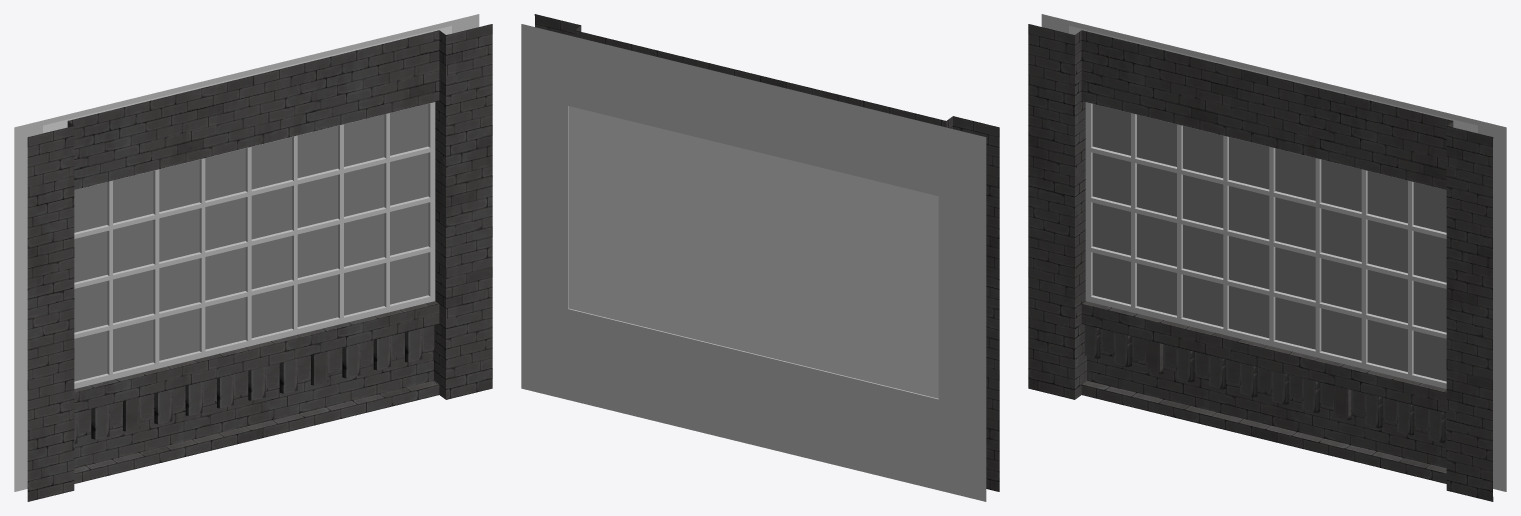
Rendered from WornBrick_WindowLarge.gltf.
3 views of the same model, side by side, from view 1: azimuth 30°, elevation 25°; view 2: azimuth 150°, elevation 25°; view 3: azimuth 330°, elevation 25° (orthographic).
Parts seen in each view (by area): view 1: WornBrick_WindowLarge; view 2: WornBrick_WindowLarge; view 3: WornBrick_WindowLarge.
Boxes of the visible parts, x1,y1,x2,y2 form: WornBrick_WindowLarge: (14,14,492,501); WornBrick_WindowLarge: (521,14,999,501); WornBrick_WindowLarge: (1028,14,1506,501).
Size of what is drawn, in the model's own units: 4 by 3 by 0.2.
